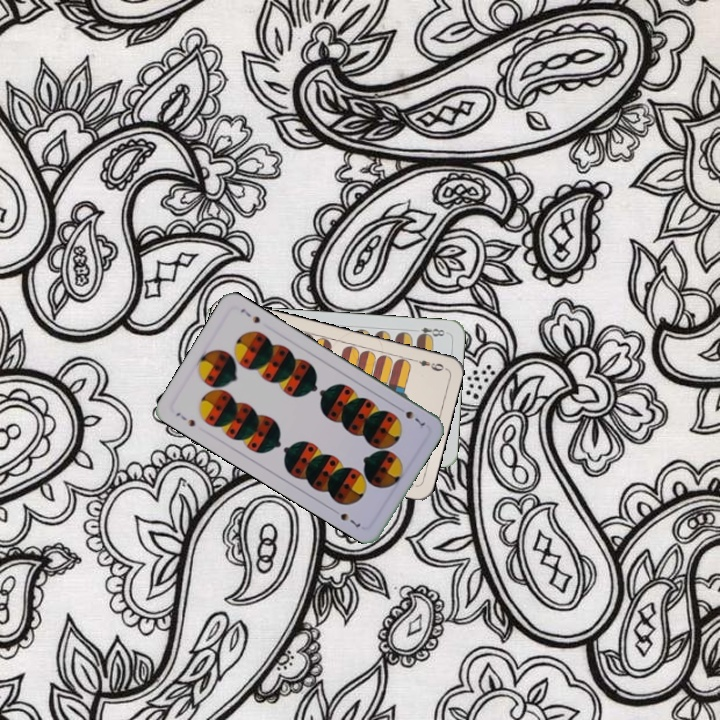E8: (409, 323, 449, 341)
E9: (408, 355, 446, 374)
S7: (393, 402, 427, 429), (172, 408, 198, 429)
